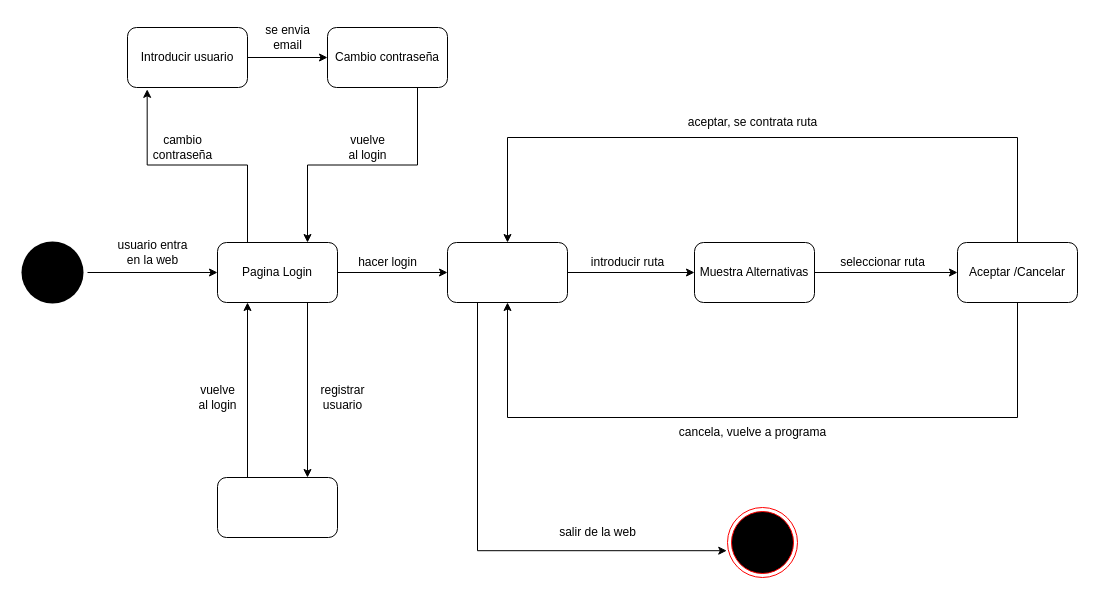
Image size: 1095x595. Some labels were removed from this diagram. Each missing label, with the centre of its shape:
"Programa Alt. Rutas" goes at (x=507, y=272).
"Registrar" goes at (x=277, y=507).
